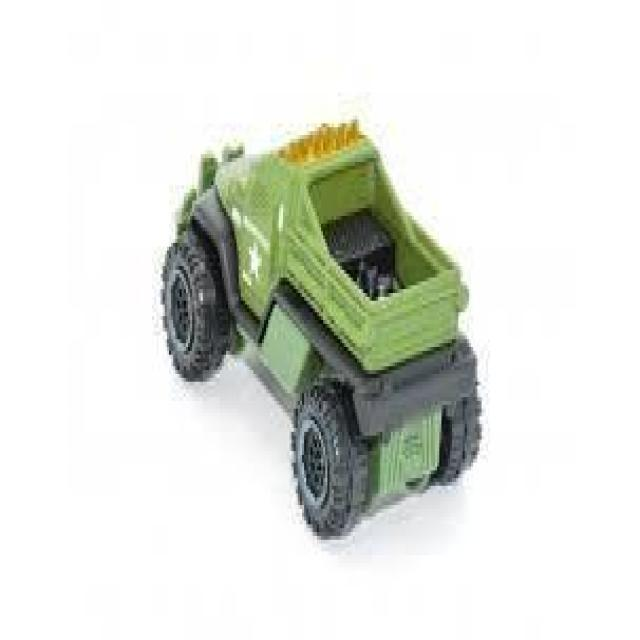MIL_MBT: (167, 129, 482, 511)
